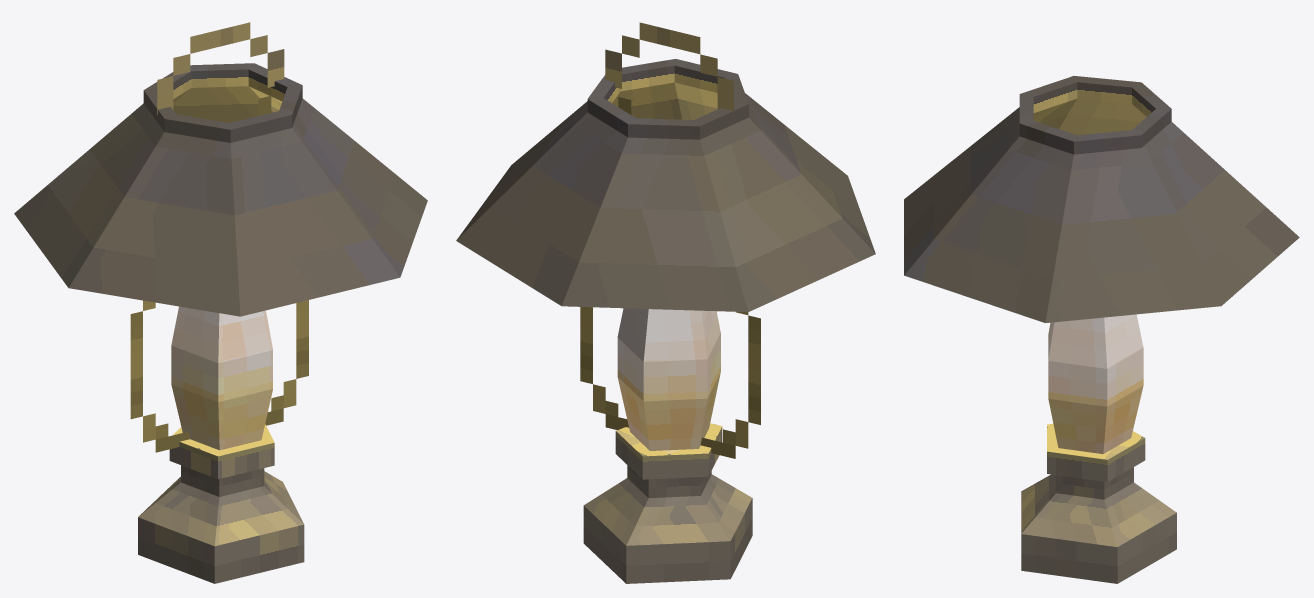
File: mockup_lantern.fbx
3 renders of one model, left to right at view 1: azimuth 30°, elevation 25°; view 2: azimuth 150°, elevation 25°; view 3: azimuth 270°, elevation 25°, orthographic. The views are drawn at different scales.
Parts seen in each view (by area): view 1: Lamp; view 2: Lamp; view 3: Lamp.
Part boxes in pixels (x1=…): Lamp: x1=14, y1=22, x2=427, y2=583; Lamp: x1=456, y1=22, x2=875, y2=583; Lamp: x1=904, y1=76, x2=1299, y2=583.
Size of the model in its own units: 1.62 by 2.23 by 1.58.
